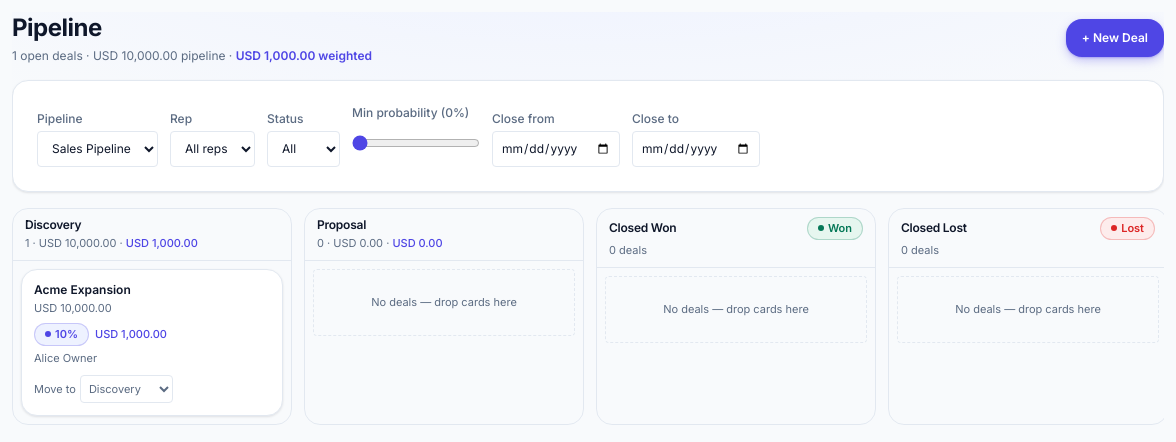
Test: PipelineBoardPage › filters cards by minimum probability
The image size is (1176, 442).
Expected: the text "Acme Expansion" is shown, [34, 282, 131, 297]
Set the slider labelled "Min probability (0%)" to "50": (416, 143) [352, 125, 480, 161]
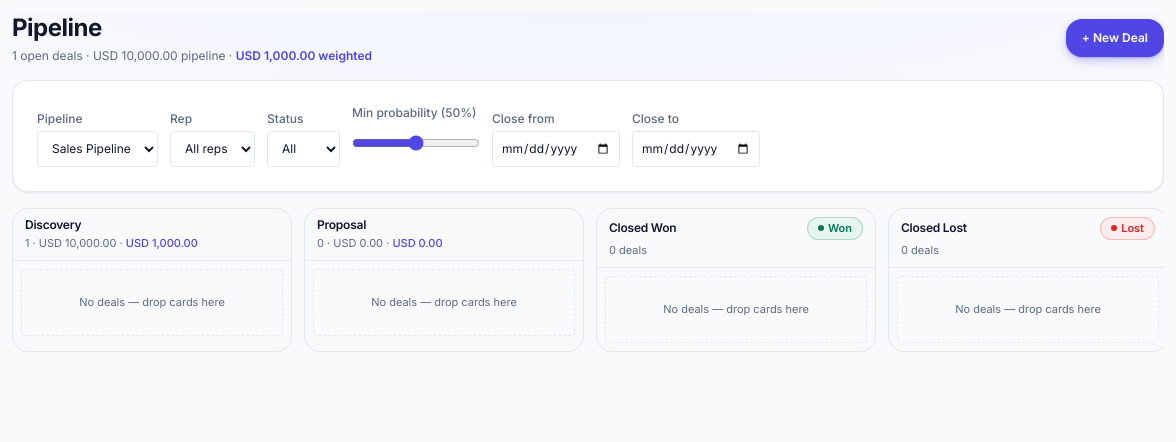
Expected: the text "Acme Expansion" is gone
